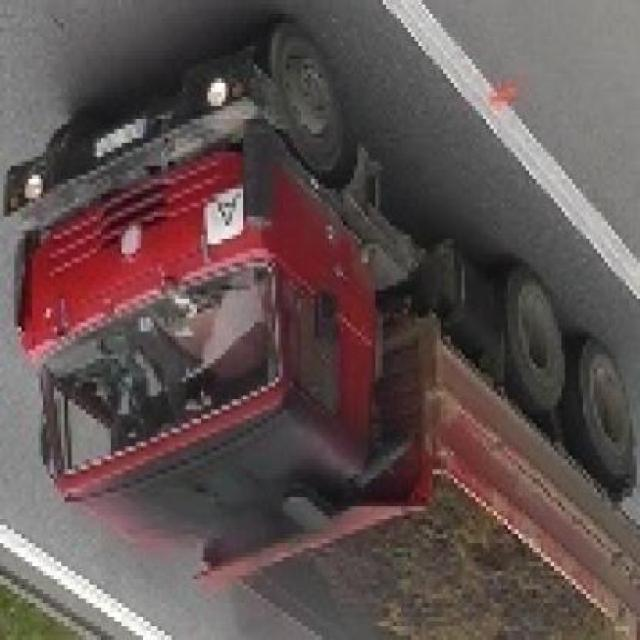truck: (1, 29, 638, 640)
